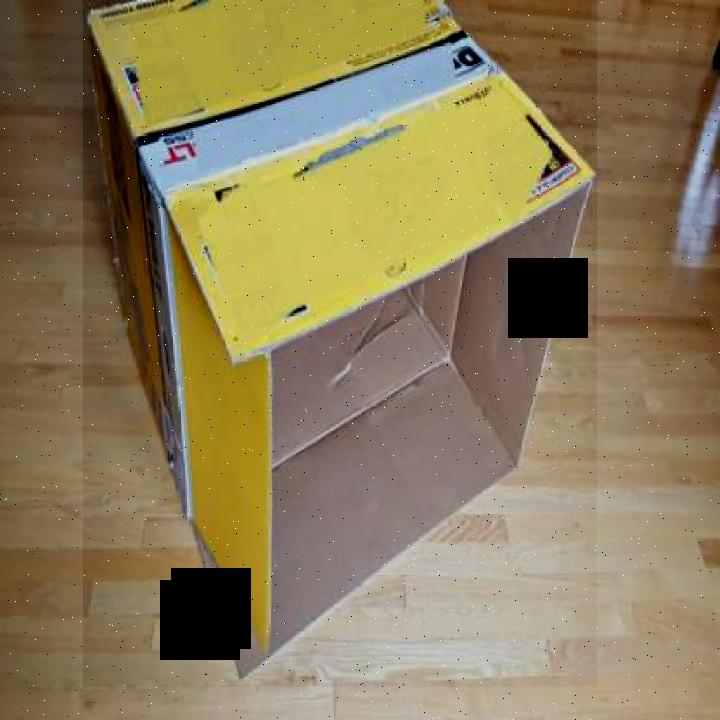box: (83, 0, 597, 687)
